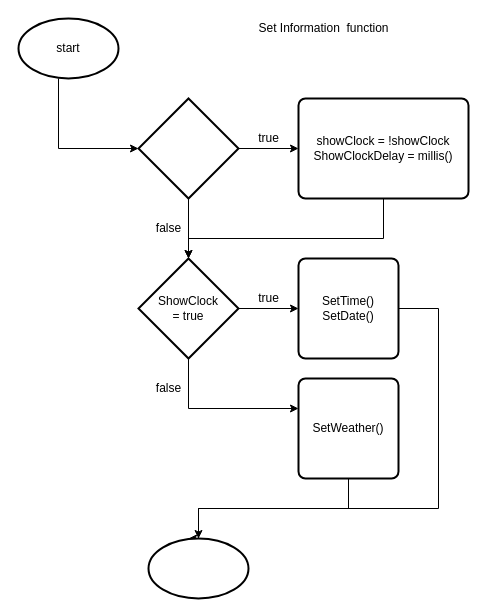
Some shapes in this 486 by 616 pixel diagram are drawn without their labels. Here are the shapes that lost their labels. From the top down, the centre of each, then its label:
the point at 188,148: millis() >= showClockDelay + 10000
the point at 198,568: End
